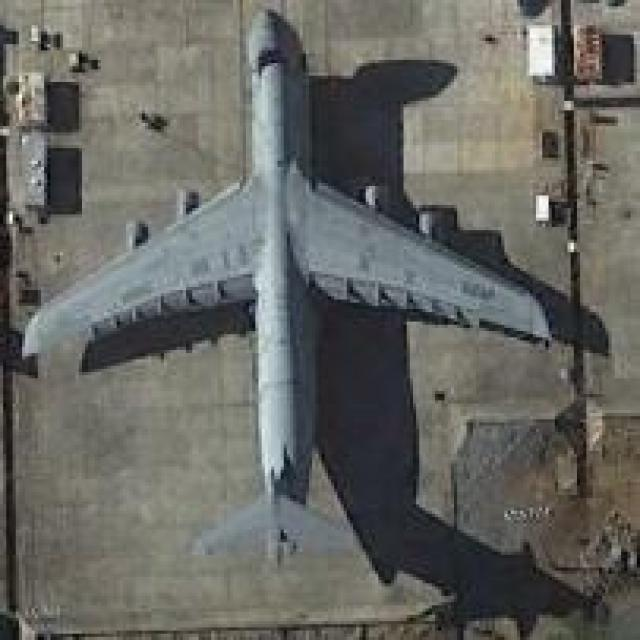C-5_TopDown: (21, 6, 596, 634)
